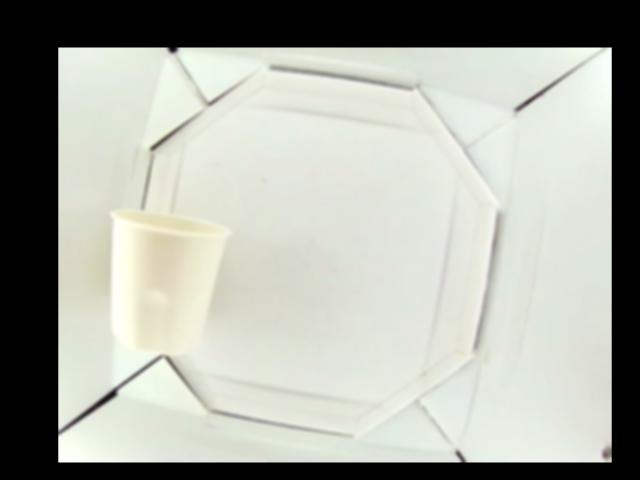Cup: (108, 206, 231, 355)
